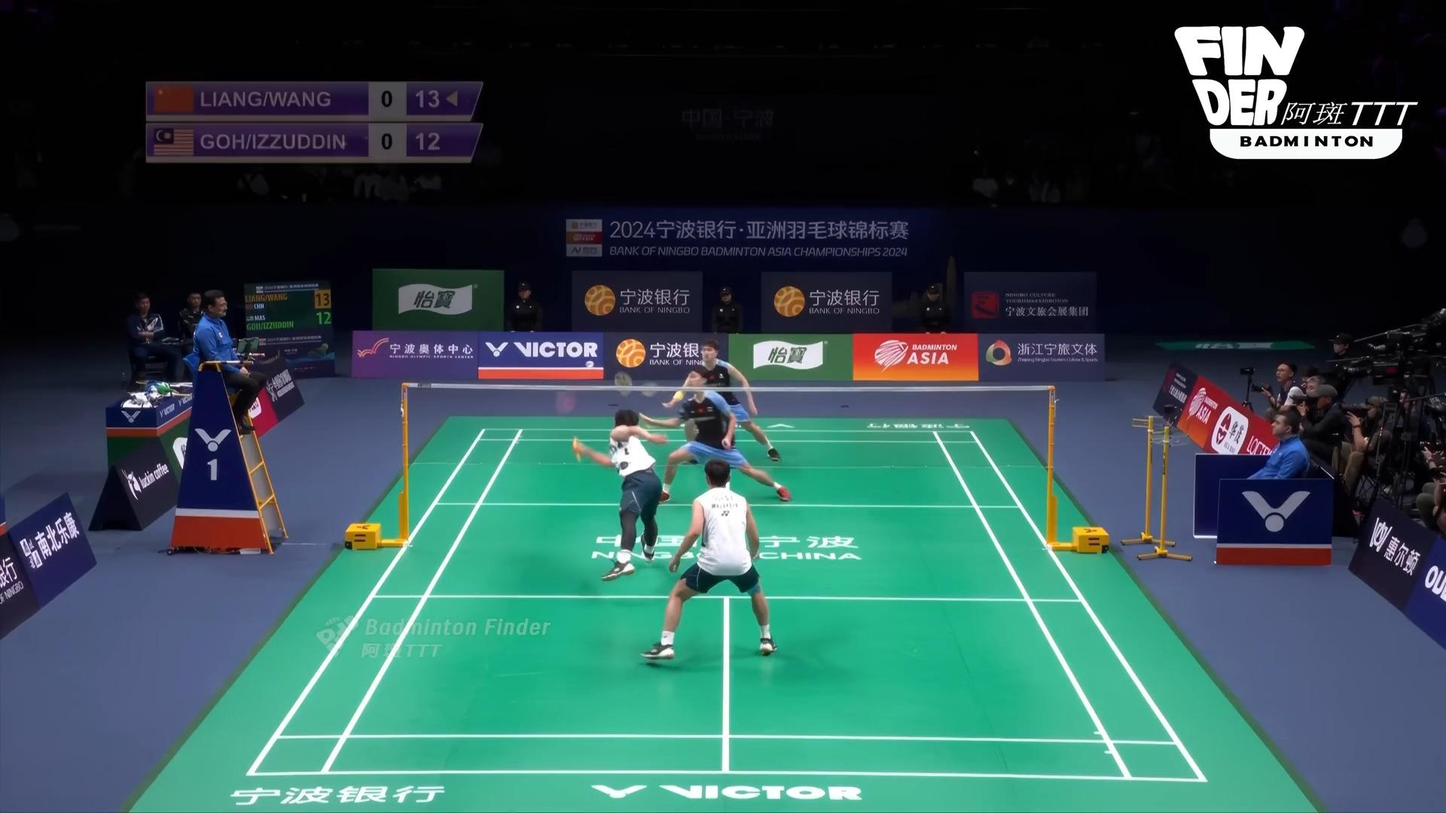shuttlecock: (584, 360, 596, 369)
